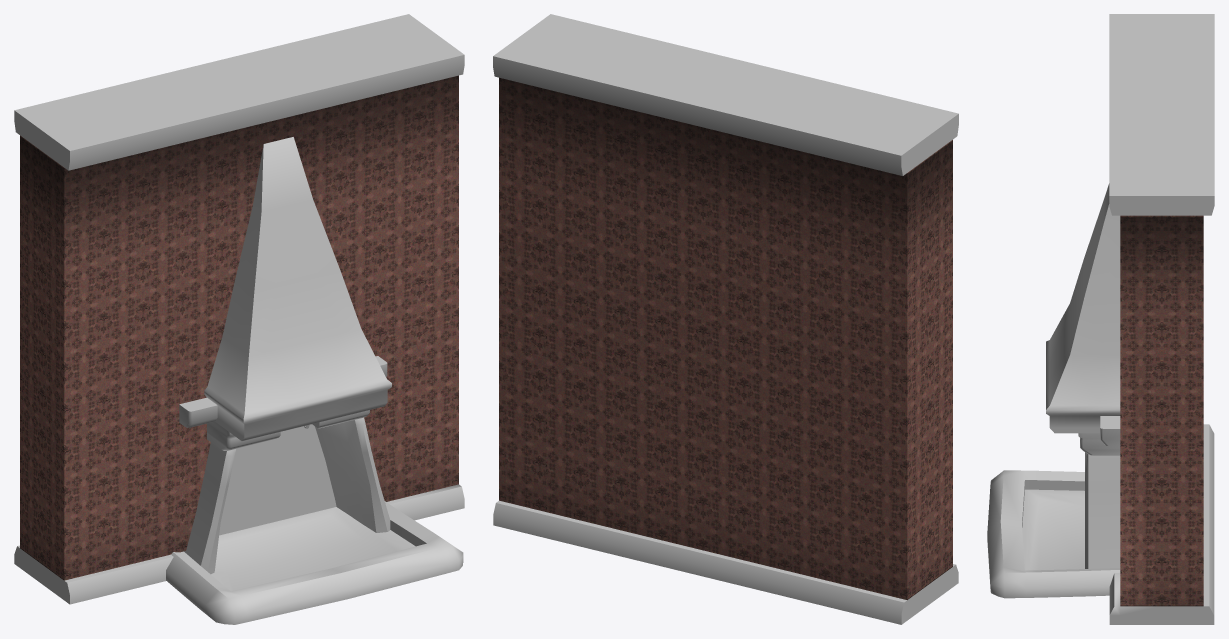
File: Fireplace Wall.fbx
3 renders of one model, left to right at view 1: azimuth 30°, elevation 25°; view 2: azimuth 150°, elevation 25°; view 3: azimuth 270°, elevation 25°, orthographic. The views are drawn at different scales.
Parts seen in each view (by area): view 1: Wall, Fireplace; view 2: Wall; view 3: Wall, Fireplace.
Boxes of the visible parts, x1,y1,x2,y2 form: Wall: (14, 14, 464, 604); Fireplace: (166, 137, 463, 624); Wall: (493, 14, 958, 624); Wall: (1109, 14, 1214, 624); Fireplace: (987, 183, 1120, 598).
Bounding box in the file's own units: 419 × 461 × 221.
